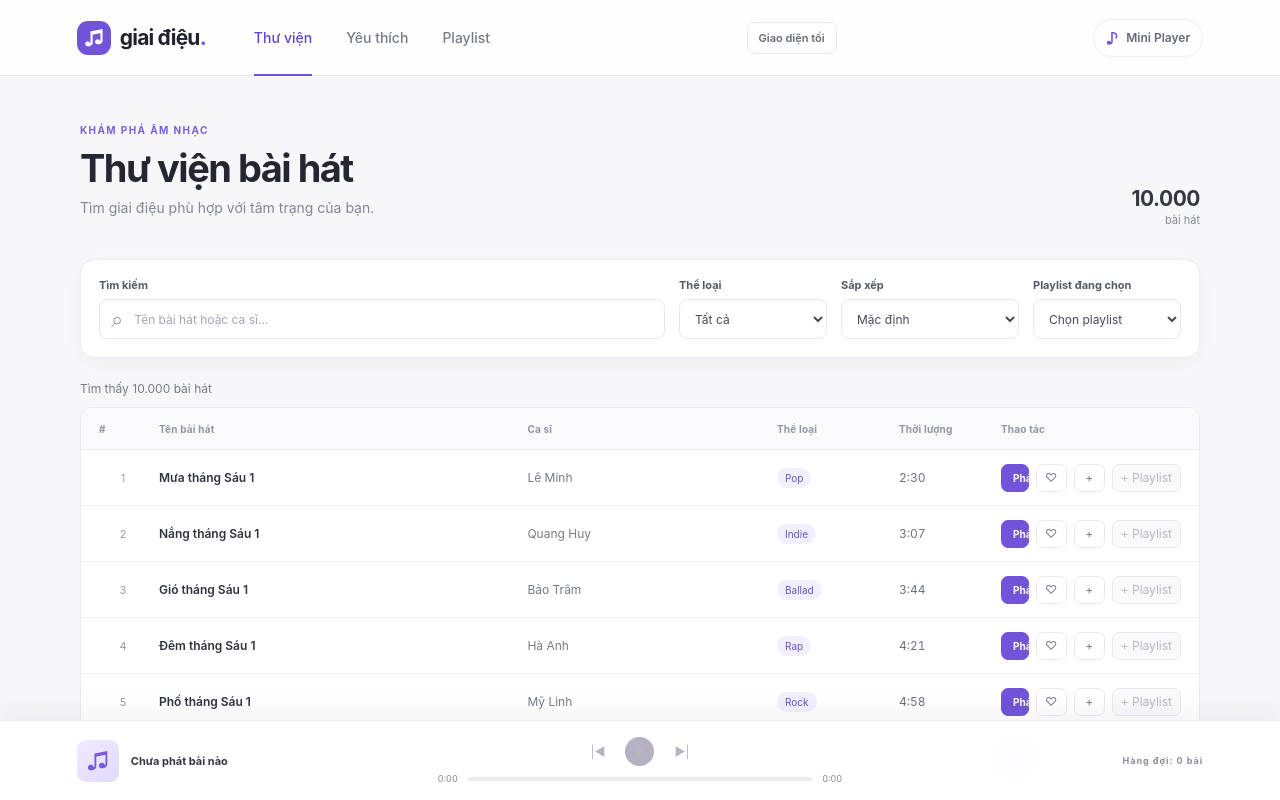
it: Ứng dụng trình phát nhạc › chờ debounce rồi lọc theo tên bài hát
In the search field labelled "Tìm kiếm": (393, 319) [132,311,653,328], type "Mưa tháng Sáu 1"
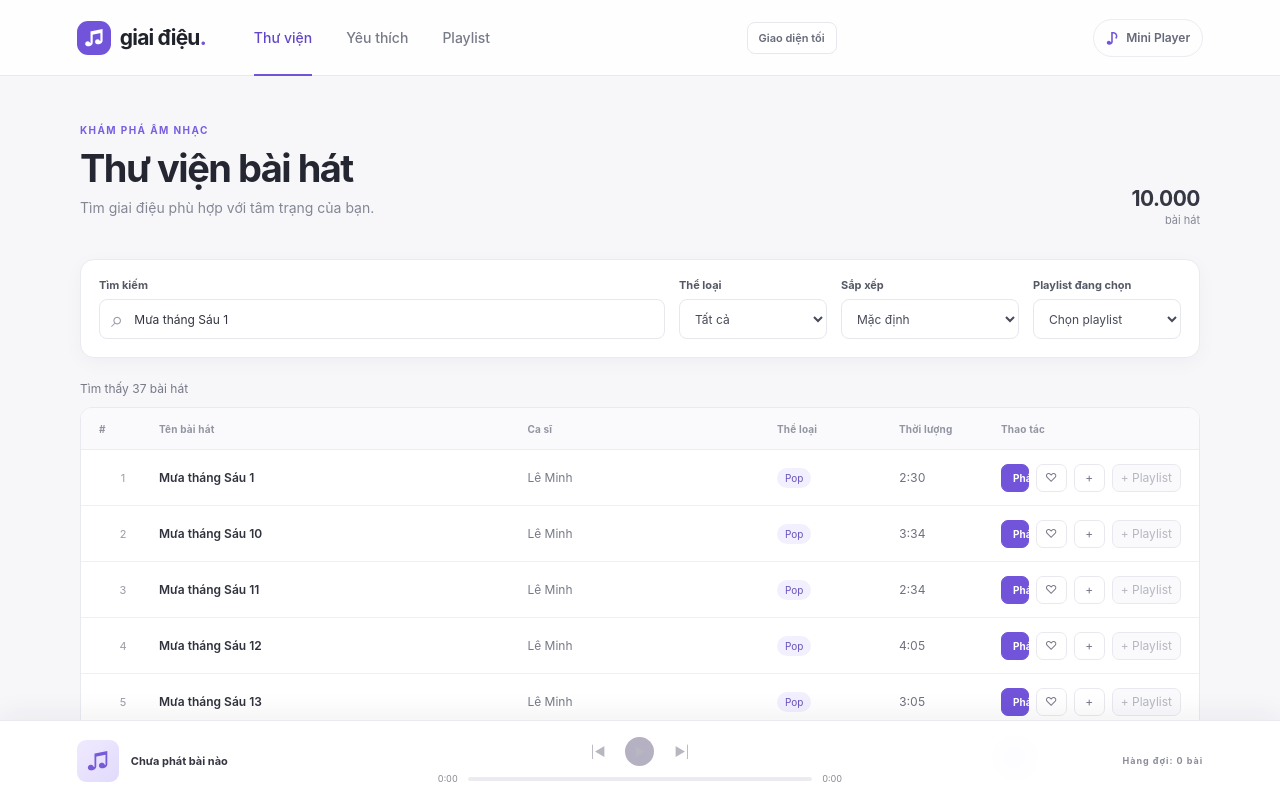
Expected: the text "Mưa tháng Sáu 1" is shown, [159,470,254,485]
Now the text "Tìm thấy 37 bài hát" is shown, box [80,381,188,396]
